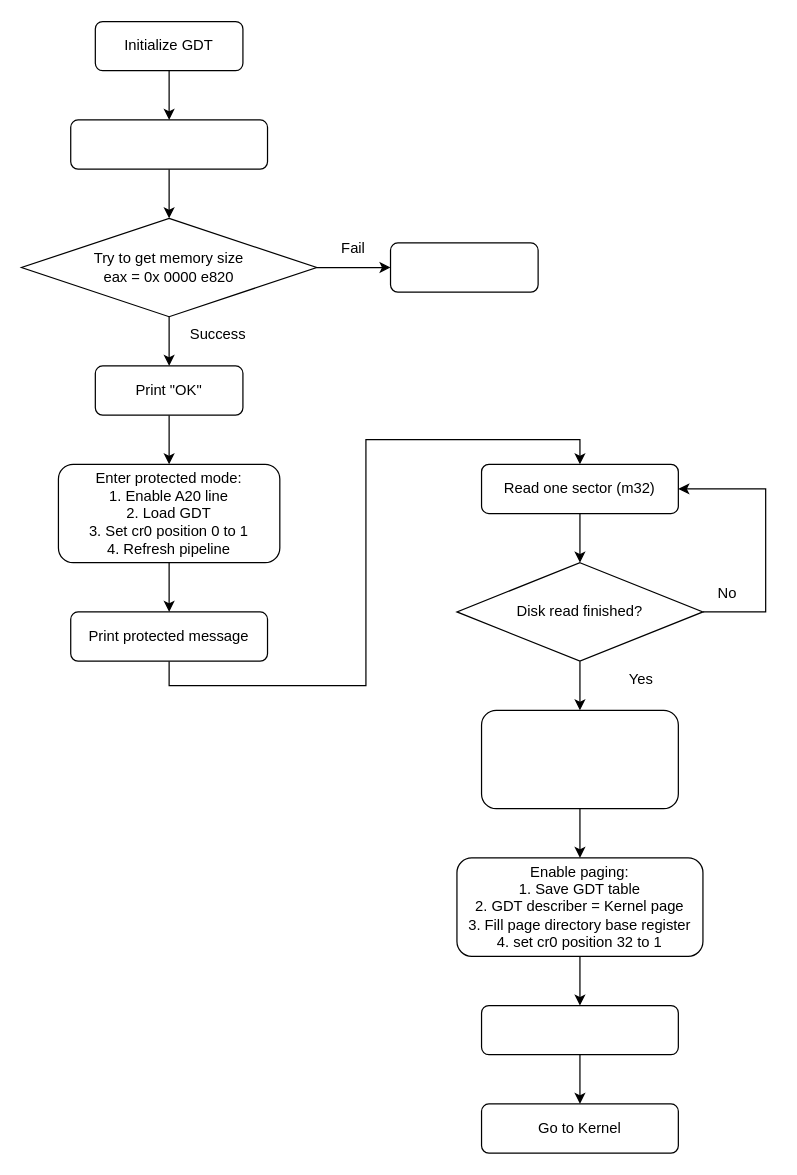
Image size: 797x1175. Some labels were removed from this diagram. The shapes that lost their labels are listed below. From the top down, each one's box as (x1, y1, x2, y2) in pixels, then its label:
(69, 119, 268, 169): Print loader message (real mode)
(389, 242, 538, 292): Print "fail" jmp $
(480, 709, 678, 809): Paging initialization: 1. Clear page dir 2. Create PDE 3. Create PTE
(480, 1004, 678, 1055): Print paging message
